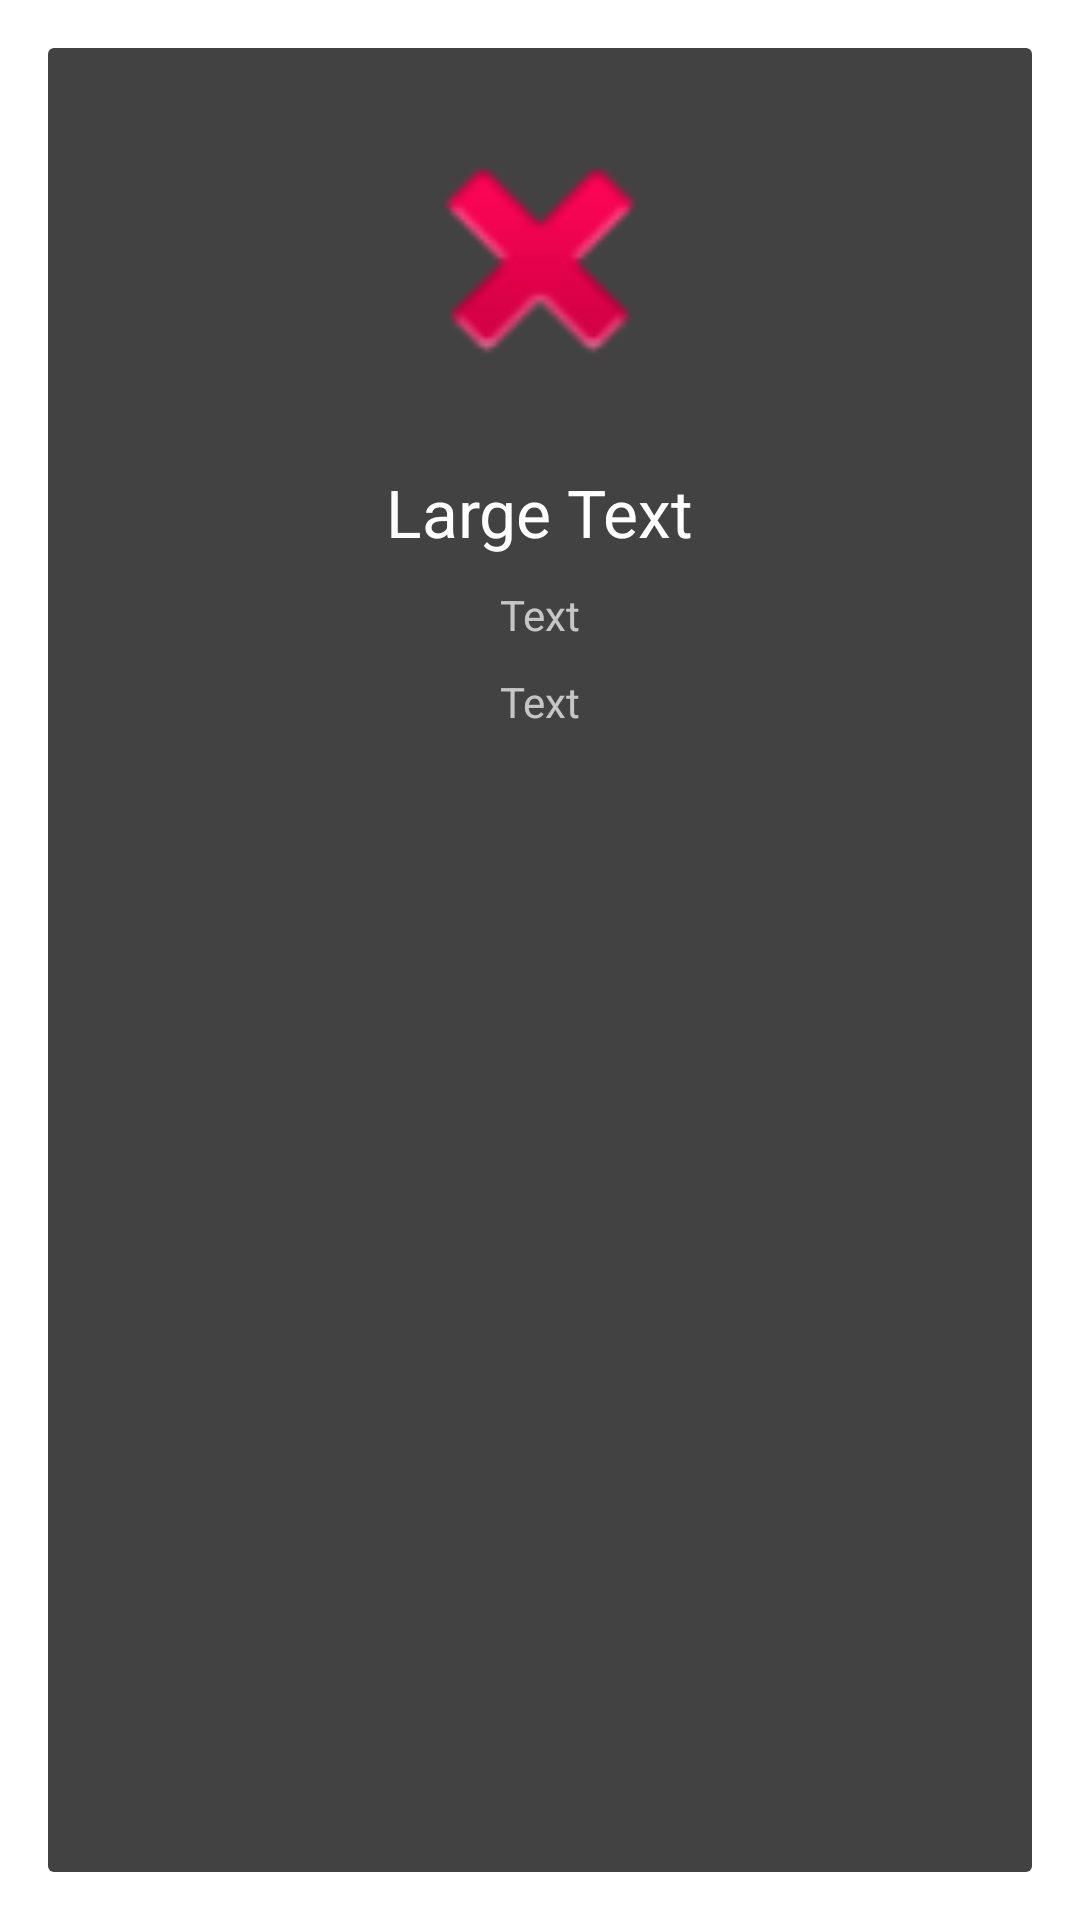

Screen size 1080 × 1920. Icon name, then its center in pixels as (x=x, y=y):
delete: (x=540, y=260)
